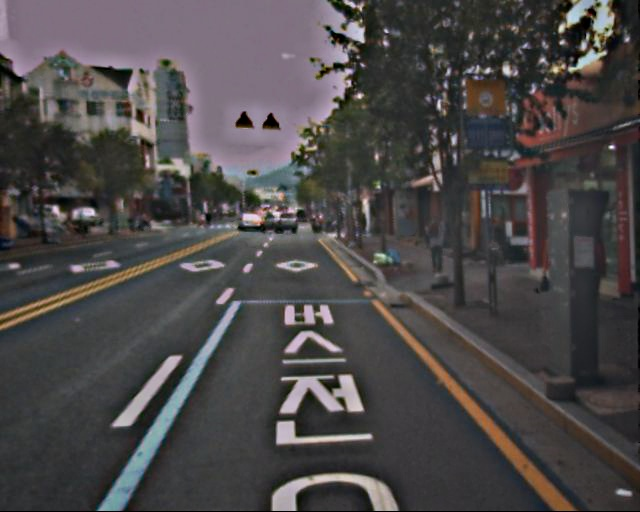person: (421, 216, 448, 280), (481, 218, 504, 273)
